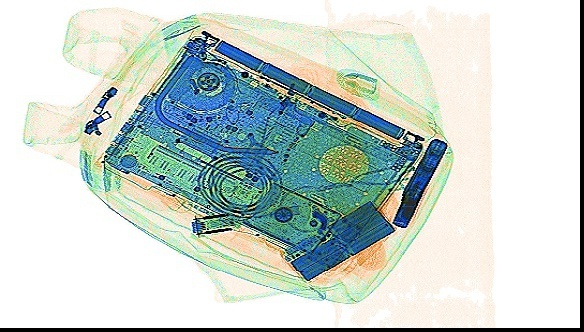powerbank: (279, 193, 396, 283)
